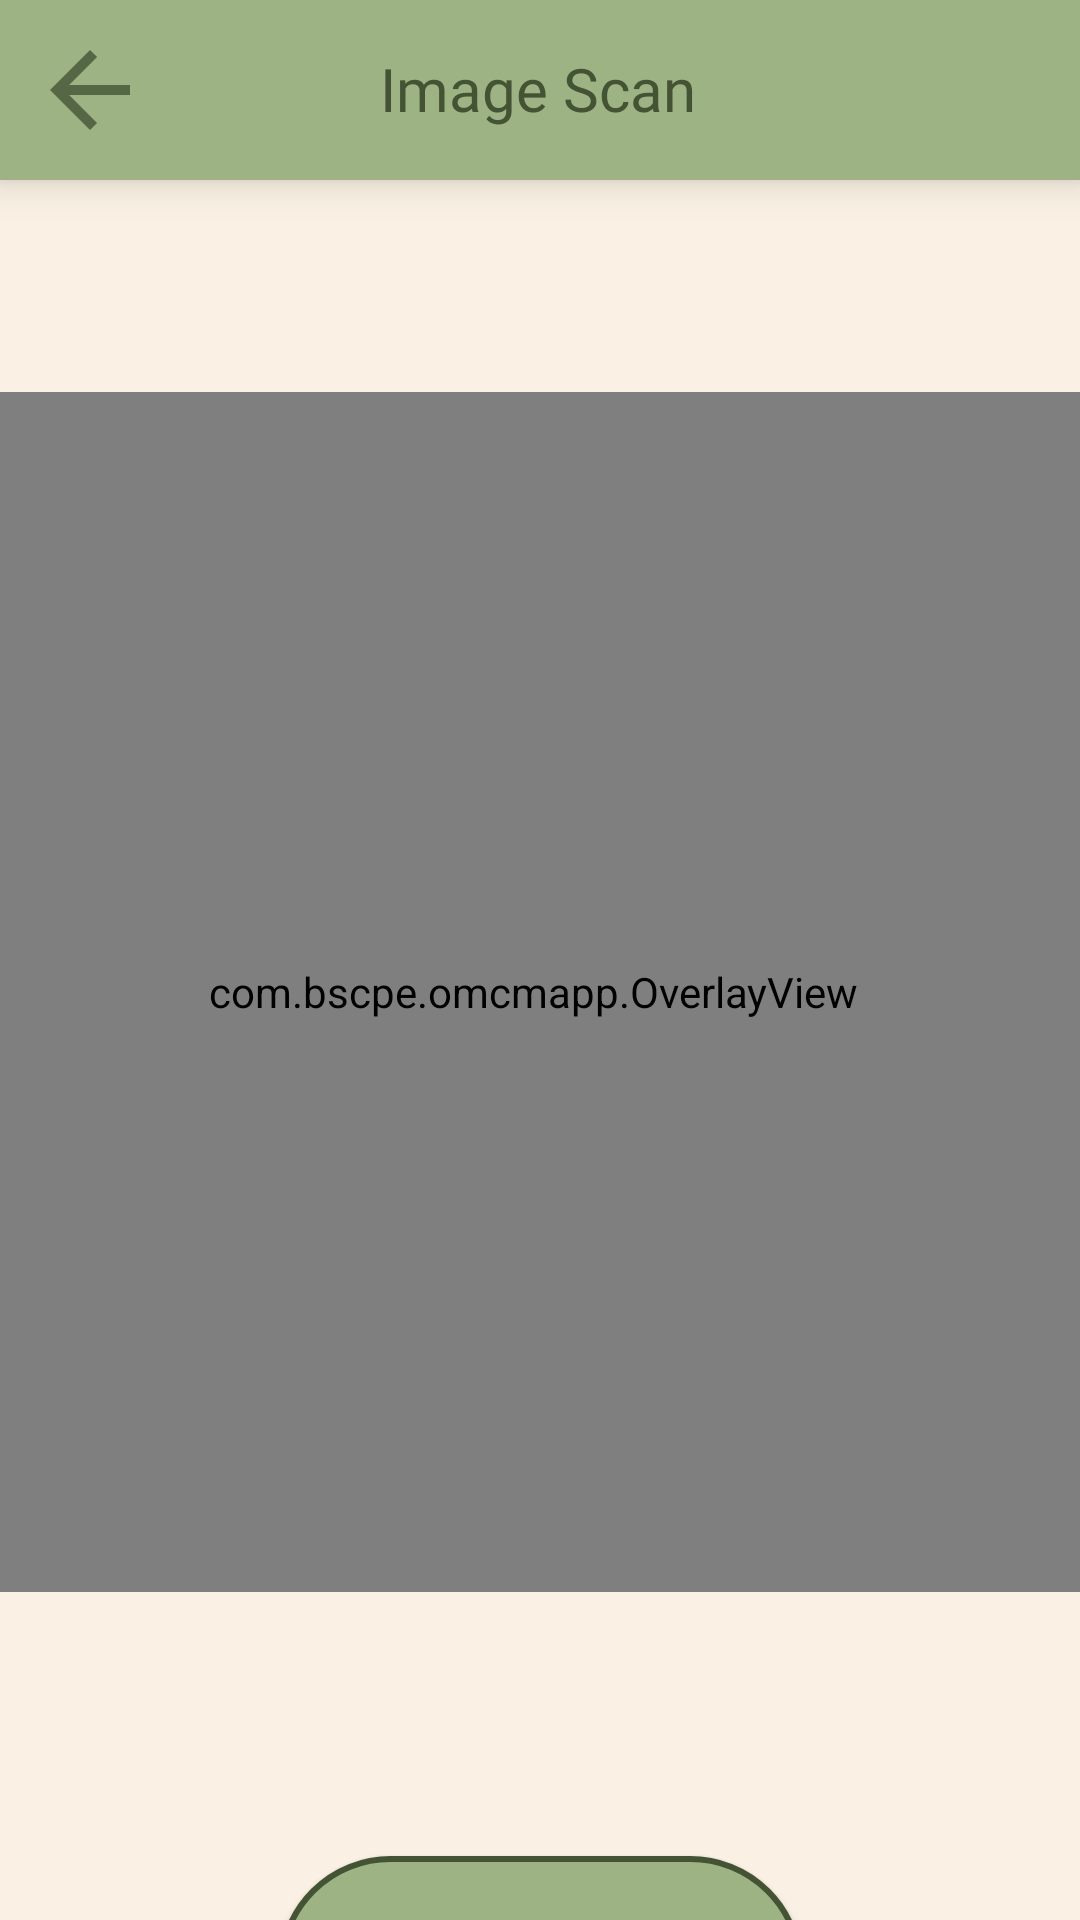

Named icons in this screenshot (1080*1920) and their bounding boxes, (x1, y1, x2, y2):
Back Button: (50, 50, 130, 130)
